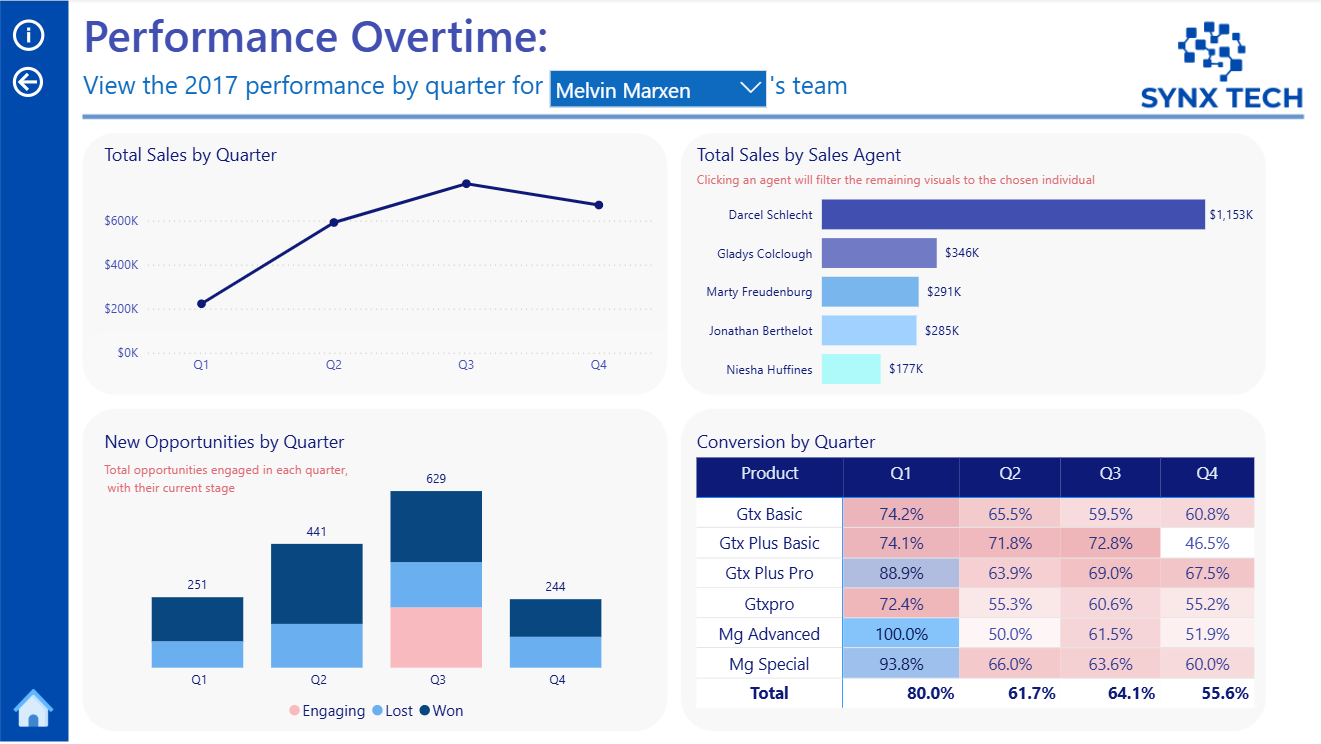

Layout of this report page (visuals, bound fields, positions):
{"tool":"powerbi","page":{"name":"Performance over time","canvas":[1280,720],"ordinal":2},"visuals":[{"type":"lineChart","title":"Total Sales by Quarter","fields":{"Category":["Date_Table.Quarter"],"Y":["sales_pipeline.Total Sales"]},"box":[101.2,138.8,538.8,233.8],"z":0},{"type":"textbox","box":[81.4,1.4,680,72.9],"z":1000},{"type":"textbox","box":[81.4,62.9,510,44.3],"z":2000},{"type":"textbox","box":[742.9,62.9,104.3,48.6],"z":3000},{"type":"slicer","title":"Manger dropdown 2","fields":{"Values":["sales_teams.Manager"]},"box":[525.7,58.6,230,54.3],"z":4000},{"type":"clusteredBarChart","title":"Total Sales by Sales Agent","fields":{"Category":["sales_pipeline.sales_agent"],"Y":["sales_pipeline.Total Sales"]},"box":[672.9,138.6,547.1,254.3],"z":5000},{"type":"textbox","box":[673,160,418,31],"z":6000},{"type":"columnChart","title":"New Opportunities by Quarter ","fields":{"Category":["Date_Table.Quarter"],"Y":["sales_pipeline.New Opportunities"],"Series":["sales_pipeline.deal_stage"]},"box":[101.2,416.2,540,291],"z":7000},{"type":"textbox","box":[101.3,440,440.7,70.7],"z":8000},{"type":"pivotTable","title":"Conversion by Quarter","fields":{"Columns":["Date_Table.Quarter"],"Rows":["sales_pipeline.Product"],"Values":["sales_pipeline.Win %"]},"box":[672.9,415.7,561.4,291.4],"z":9000},{"type":"actionButton","title":"i Button pg 3","box":[13,15.9,99.6,40.4],"z":10000},{"type":"actionButton","title":"Back arrow Button pg 3","box":[13,62,99.6,39],"z":11000},{"type":"image","box":[12.9,665.7,50,38.6],"z":15000}]}

Visuals, with their boxes in screenshot pixels (x1, y1, x2, y2), scaled from the page's 1280x720 canvas onto the 1321x744 screenshot:
"Total Sales by Quarter" lineChart: select_region(104, 143, 660, 385)
textbox: select_region(84, 1, 786, 77)
textbox: select_region(84, 65, 610, 111)
textbox: select_region(767, 65, 874, 115)
"Manger dropdown 2" slicer: select_region(543, 61, 780, 117)
"Total Sales by Sales Agent" clusteredBarChart: select_region(694, 143, 1259, 406)
textbox: select_region(695, 165, 1126, 197)
"New Opportunities by Quarter " columnChart: select_region(104, 430, 662, 731)
textbox: select_region(105, 455, 559, 528)
"Conversion by Quarter" pivotTable: select_region(694, 430, 1274, 731)
"i Button pg 3" actionButton: select_region(13, 16, 116, 58)
"Back arrow Button pg 3" actionButton: select_region(13, 64, 116, 104)
image: select_region(13, 688, 65, 728)
